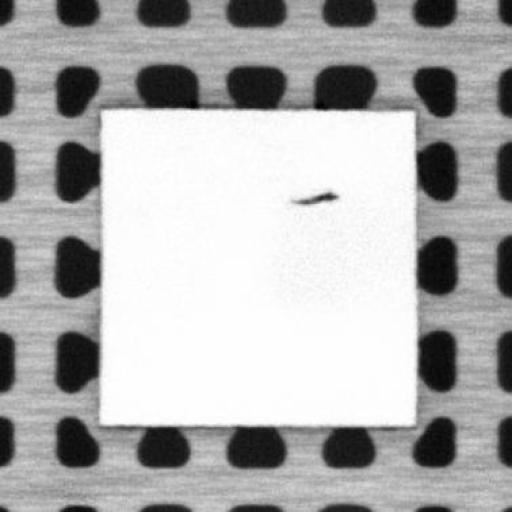DIE_INK: (286, 185, 337, 207)
